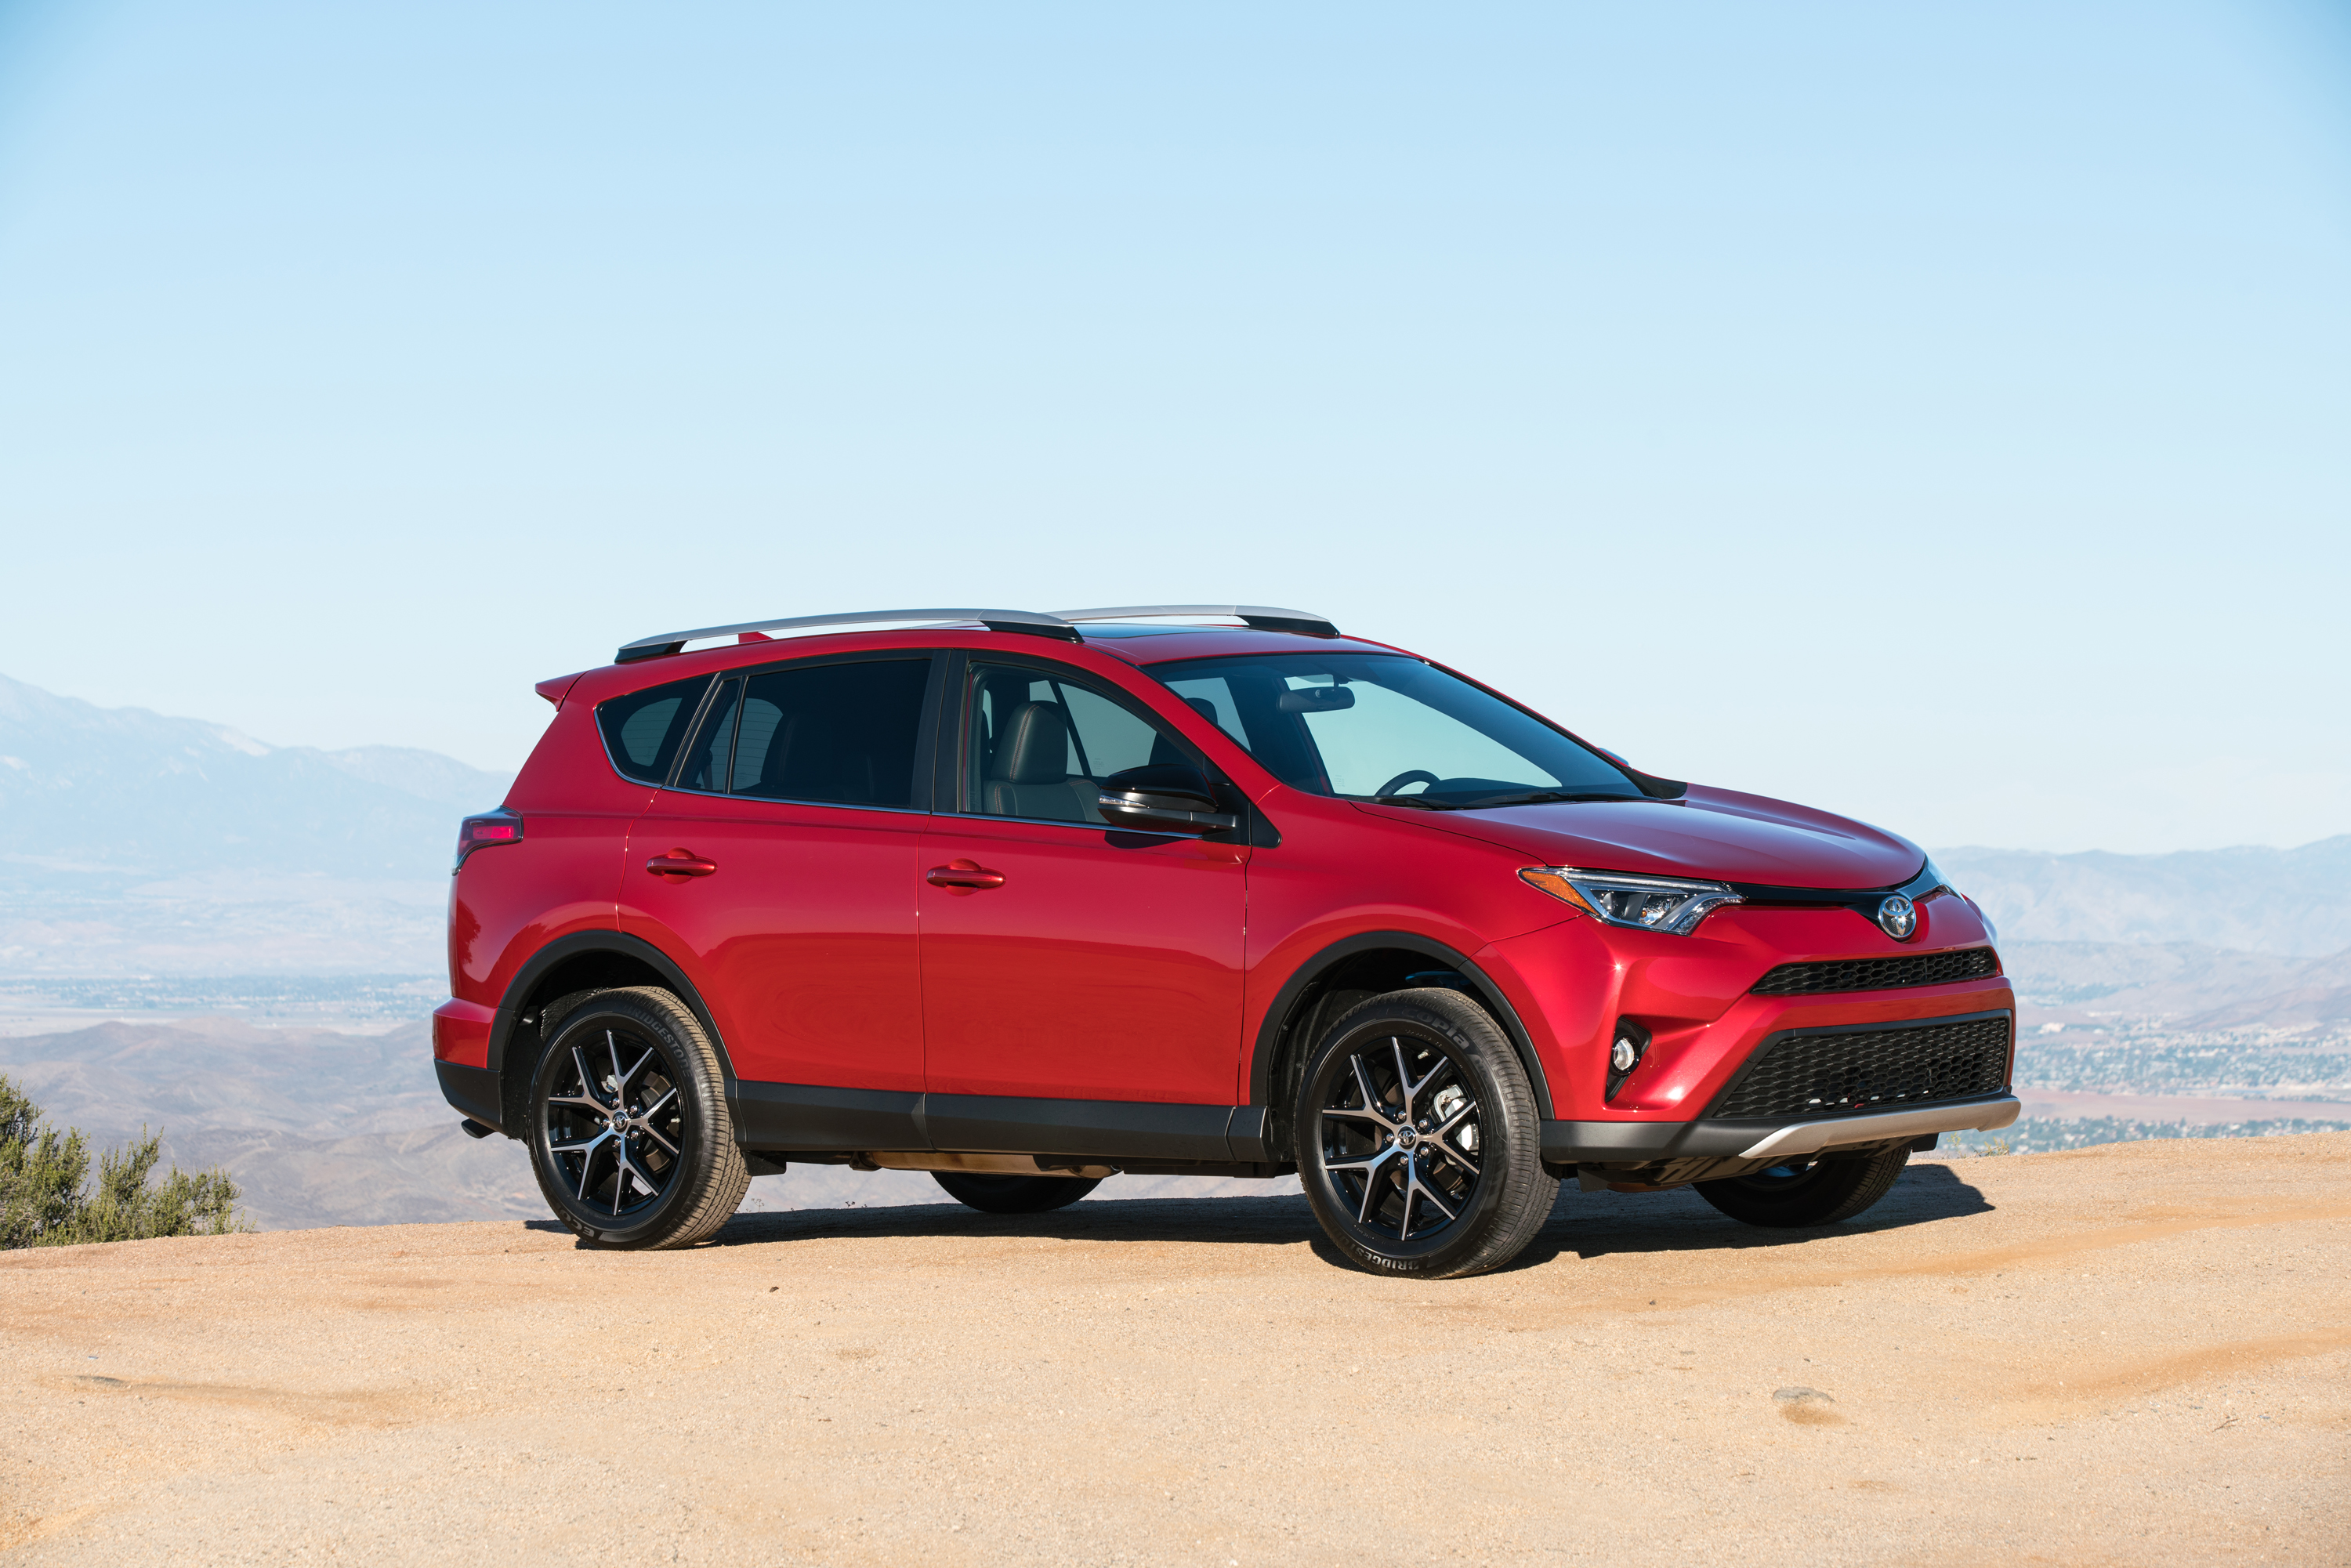Toyota RAV-4: (427, 602, 2029, 1284)
